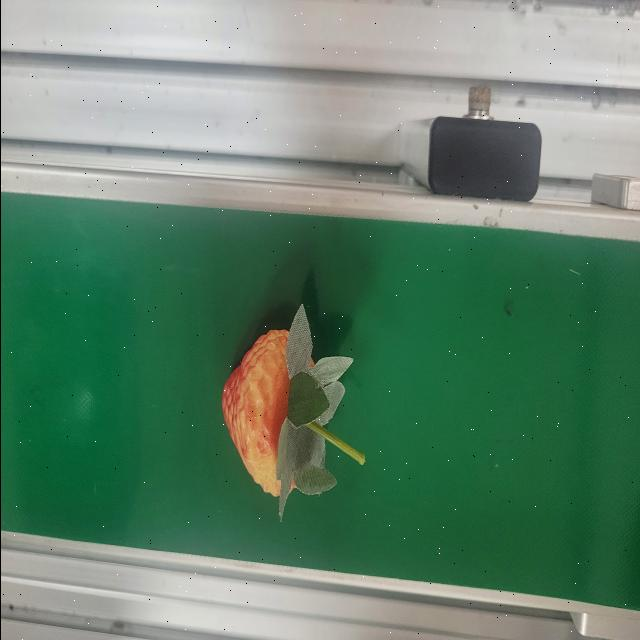Moldy Strawberry: (219, 326, 328, 508)
